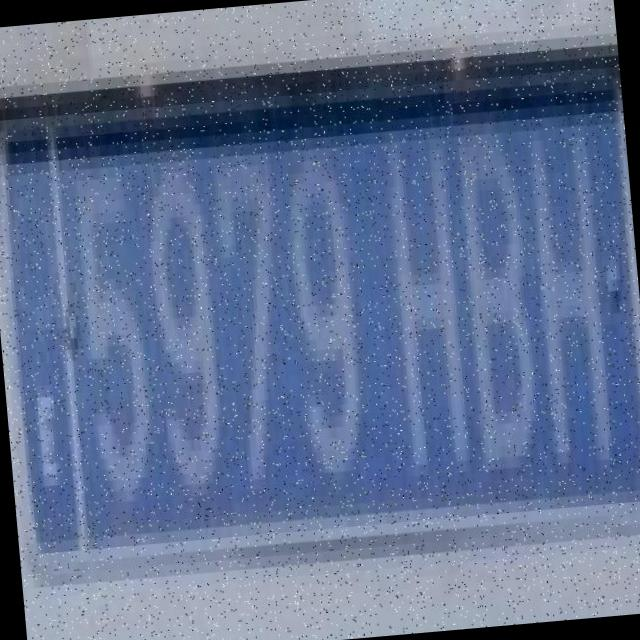LicensePlate: (0, 65, 640, 570)
